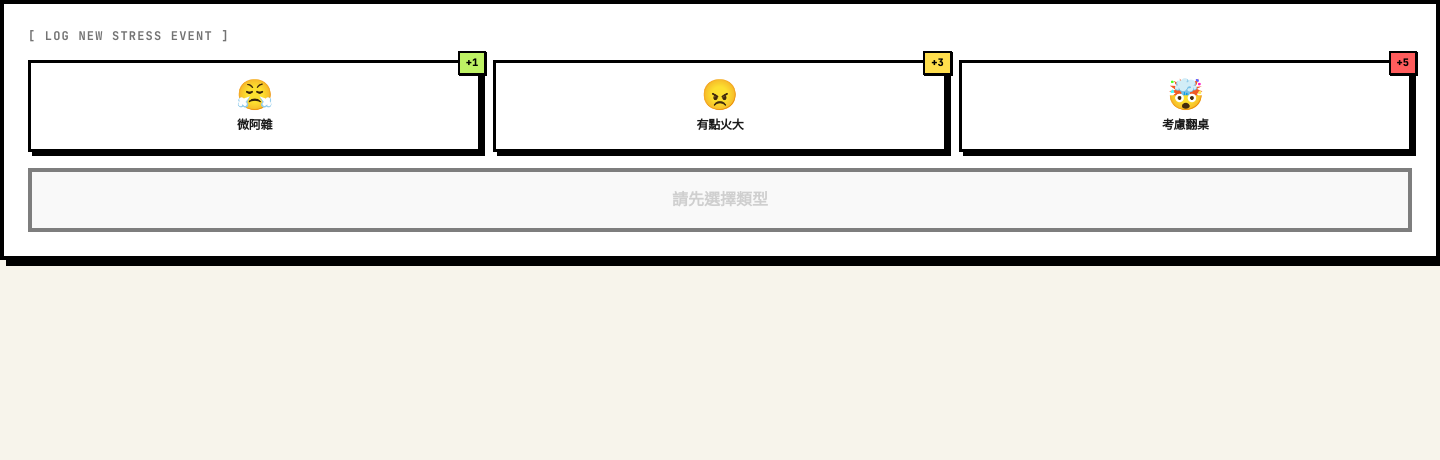
Test case: AddPointsPanel.vue › submits correctly and resets form
The width and height of the screenshot is (1440, 460).
Click the button with id "add-points-moderate" at (720, 106), box x1=493 y1=60 x2=947 y2=152
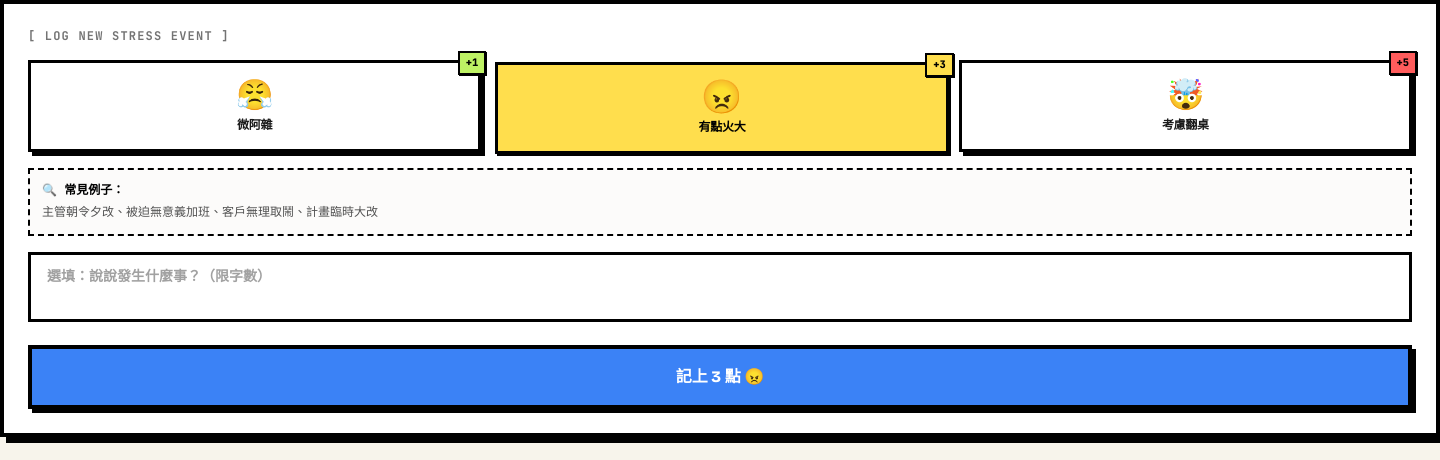
Type "主管太煩了" into the text box with placeholder "選填：說說發生什麼事？（限字數）" at (720, 286), box x1=28 y1=252 x2=1412 y2=322
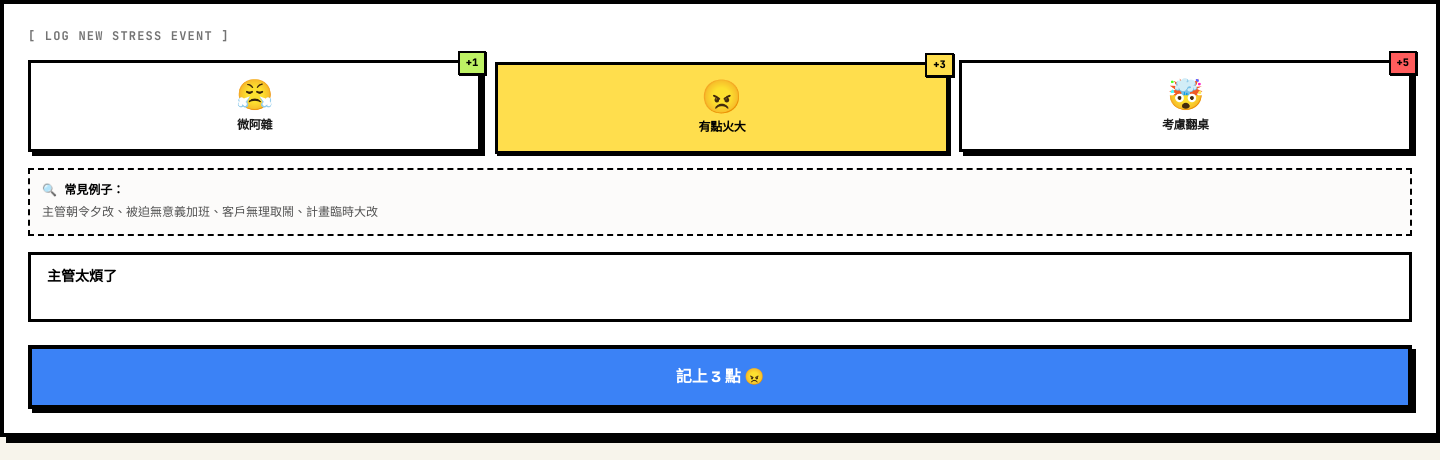
Click the button with id "submit-points-btn" at (720, 376), box x1=28 y1=344 x2=1412 y2=408
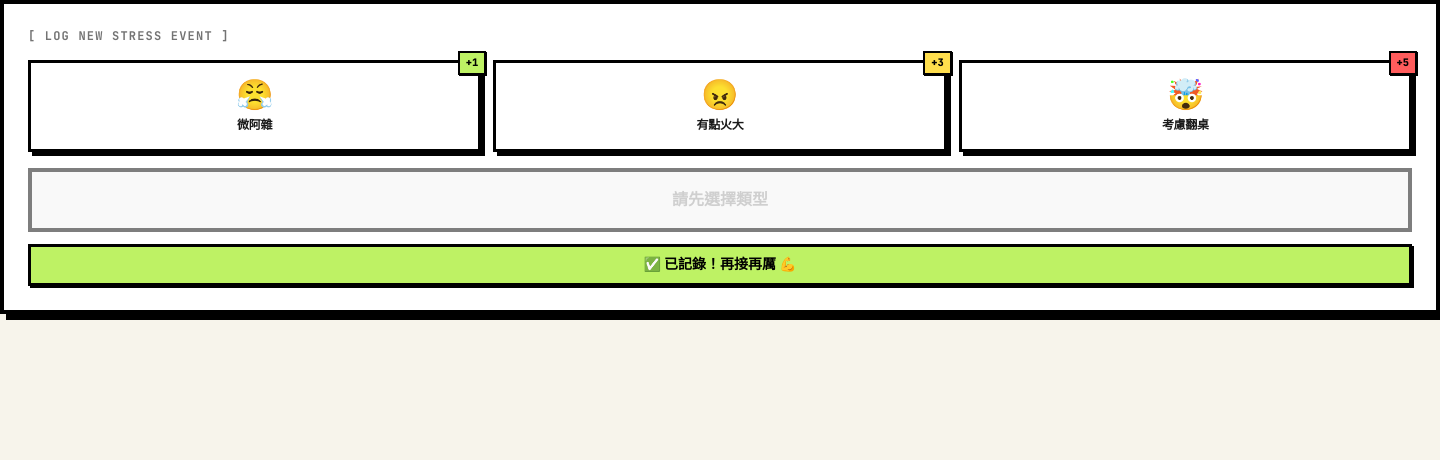
Result: the button with id "submit-points-btn" is disabled at x1=28 y1=168 x2=1412 y2=232
